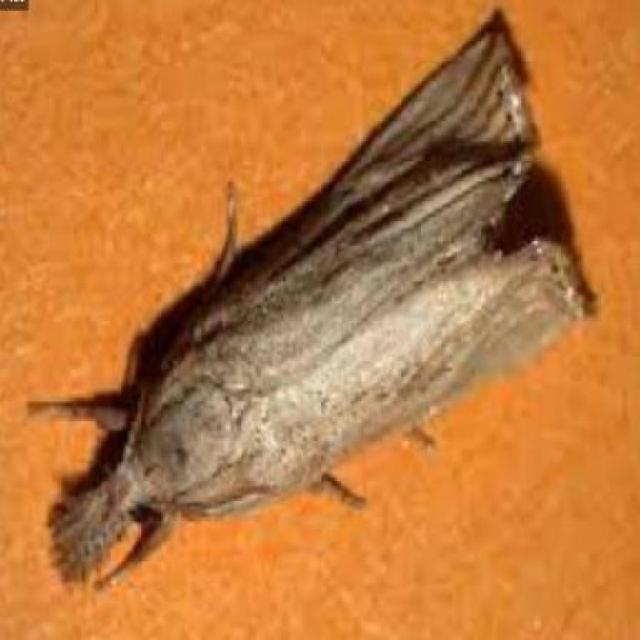stem-borer: (28, 22, 600, 596)
